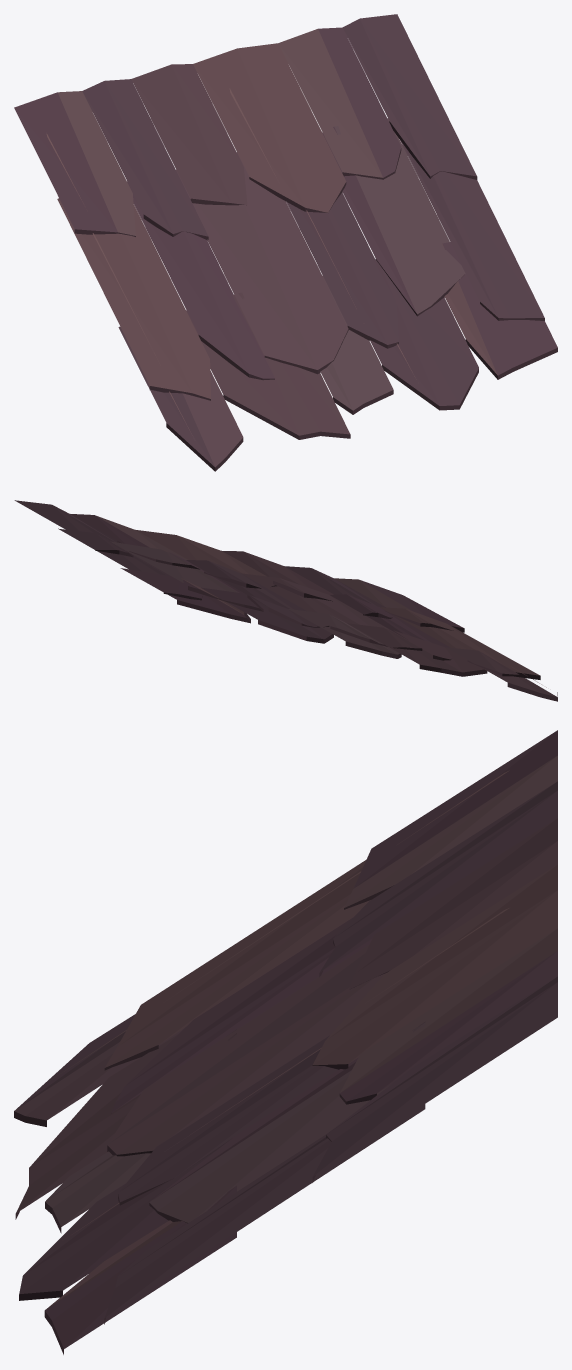
Rendered from ShortEave43.glb.
3 views of the same model, one above another, from view 1: azimuth 30°, elevation 25°; view 2: azimuth 150°, elevation 25°; view 3: azimuth 270°, elevation 25° (orthographic). The views are drawn at different scales.
Visible parts, largest first — view 1: ShortEave43; view 2: ShortEave43; view 3: ShortEave43.
Part boxes in pixels (x1=…): ShortEave43: x1=14, y1=14, x2=557, y2=471; ShortEave43: x1=14, y1=500, x2=557, y2=701; ShortEave43: x1=14, y1=730, x2=557, y2=1354.
Bounding box in the file's own units: 2.02 × 1.24 × 1.62.
